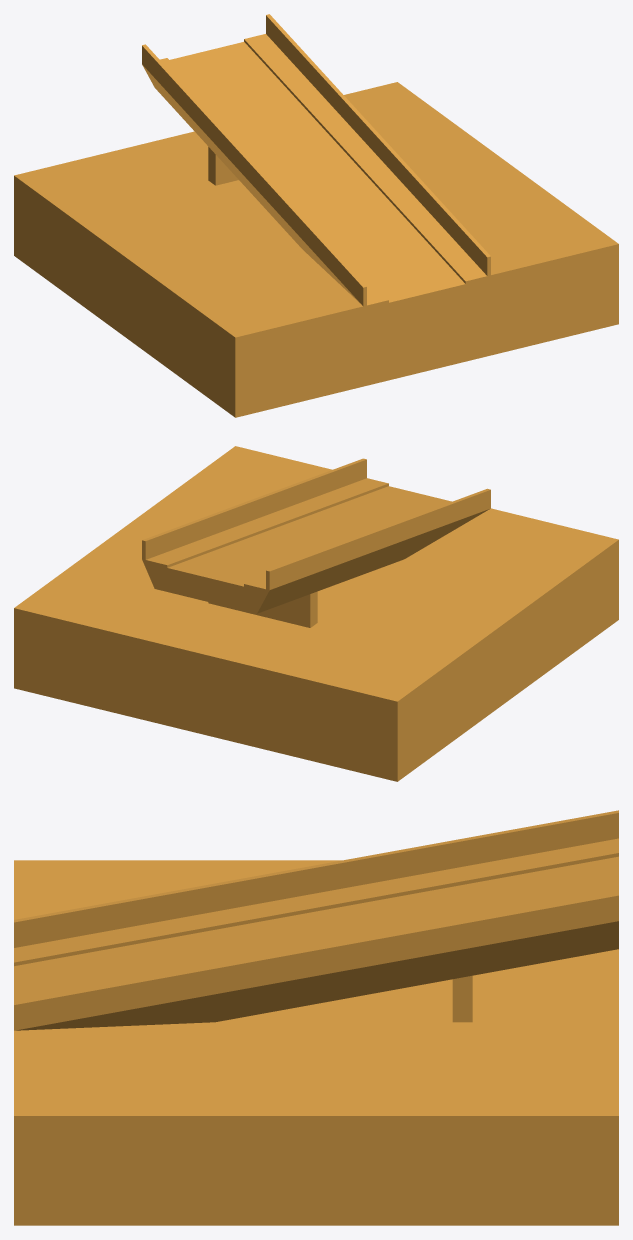
File: tile-bridge-road-hill.glb
The picture shows the model from 3 angles, top to bottom: view 1: azimuth 30°, elevation 25°; view 2: azimuth 150°, elevation 25°; view 3: azimuth 270°, elevation 25°; orthographic projection. The views are drawn at different scales.
Parts seen in each view (by area): view 1: tile-bridge-road-hill; view 2: tile-bridge-road-hill; view 3: tile-bridge-road-hill.
Boxes of the visible parts, x1,y1,x2,y2 form: tile-bridge-road-hill: (14, 14, 618, 417); tile-bridge-road-hill: (14, 446, 618, 781); tile-bridge-road-hill: (14, 810, 618, 1225).
Bounding box in the file's own units: 30 × 13.4 × 30.
